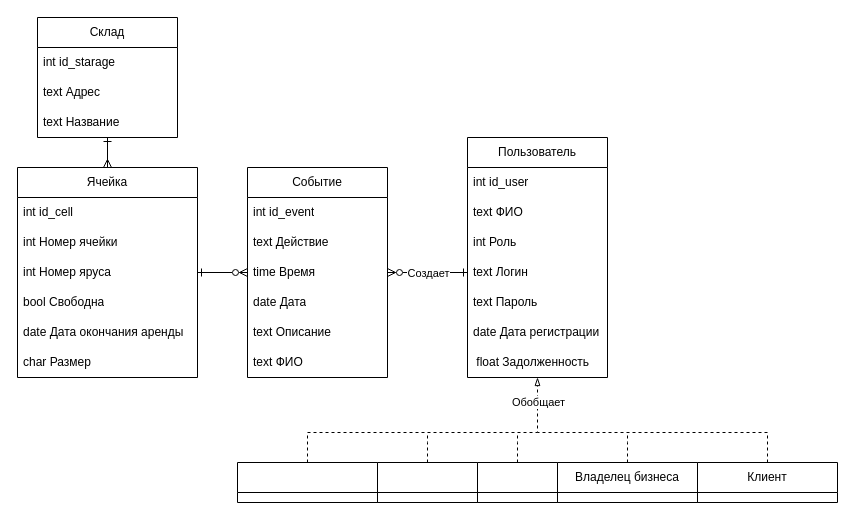
This 855x520 diagram has some shape labels left out. The shapes that lost their labels are listed below. From the top down, each one's centre as x and y in pixels, then its label:
[307,482]: Сис.администратор
[427,482]: Работник
[517,482]: Директор
